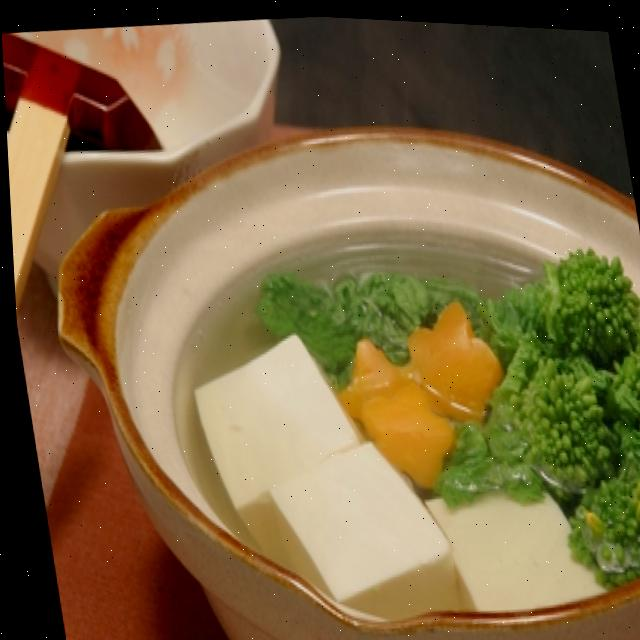豆腐料理: (43, 95, 640, 640)
